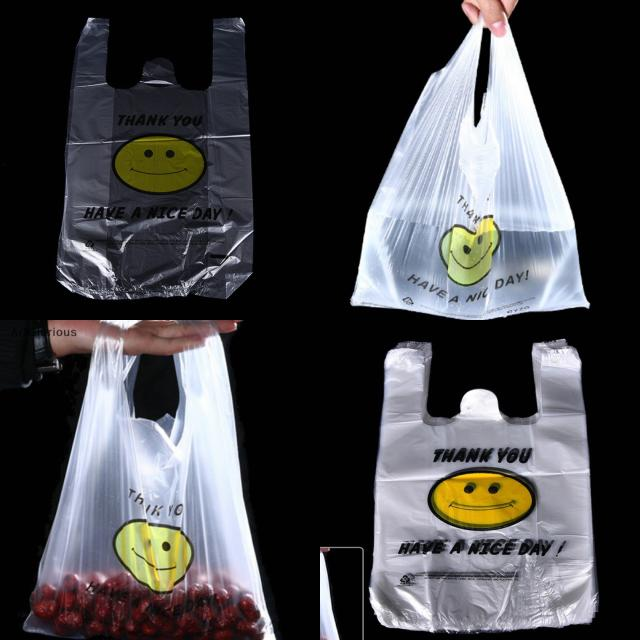Single-layer Plastic: (25, 322, 275, 640), (351, 24, 589, 319), (370, 340, 598, 632), (58, 19, 252, 299)
